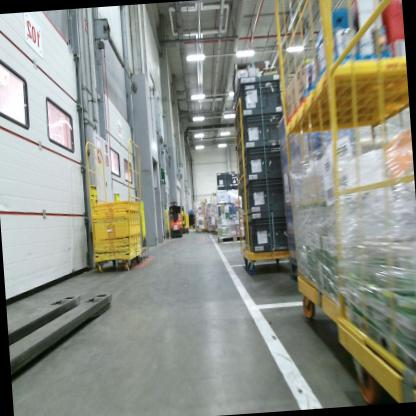pallet: (215, 230, 249, 245)
pallet_truck: (163, 196, 185, 239)
